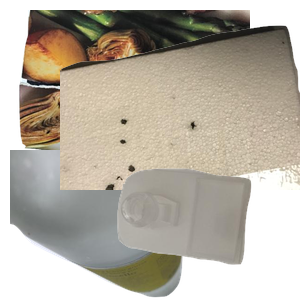glass: (10, 150, 190, 300)
paper: (16, 10, 256, 172)
plastic: (115, 166, 300, 300)
trash: (60, 23, 300, 203)
